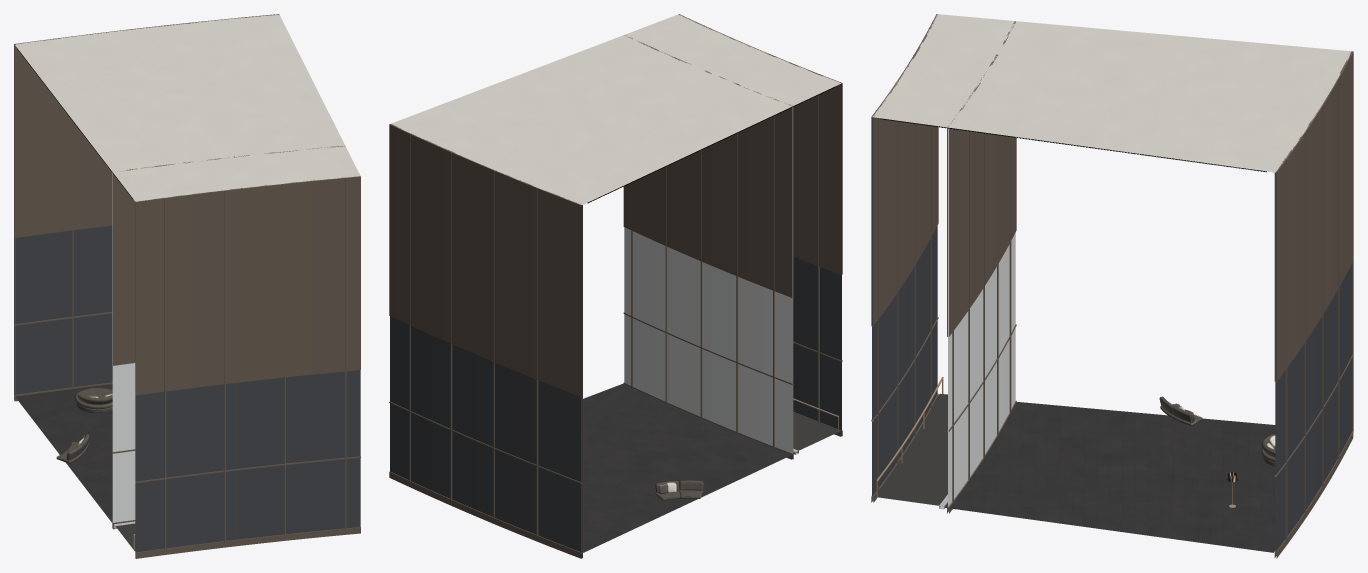
3 views of the same model, side by side, from view 1: azimuth 30°, elevation 25°; view 2: azimuth 150°, elevation 25°; view 3: azimuth 270°, elevation 25° (orthographic). The views are drawn at different scales.
Visible parts, largest first — view 1: c0120; view 2: c0120; view 3: c0120, c0120 leaves.
Boxes of the visible parts, x1,y1,x2,y2 form: c0120: (14, 14, 360, 558); c0120: (389, 14, 842, 558); c0120: (871, 14, 1353, 558); c0120 leaves: (880, 118, 1266, 482).
Bounding box in the file's own units: 17.89 × 20.3 × 22.99.
10 materials, 2 textured.
